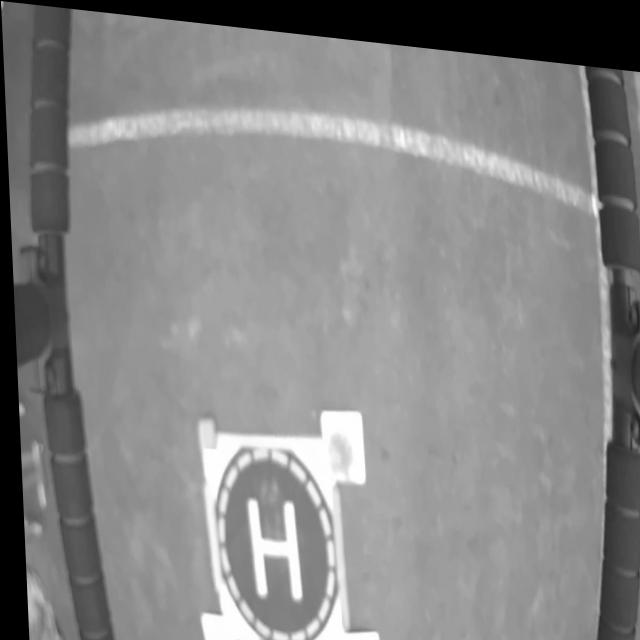Helipad: (242, 490, 297, 595)
